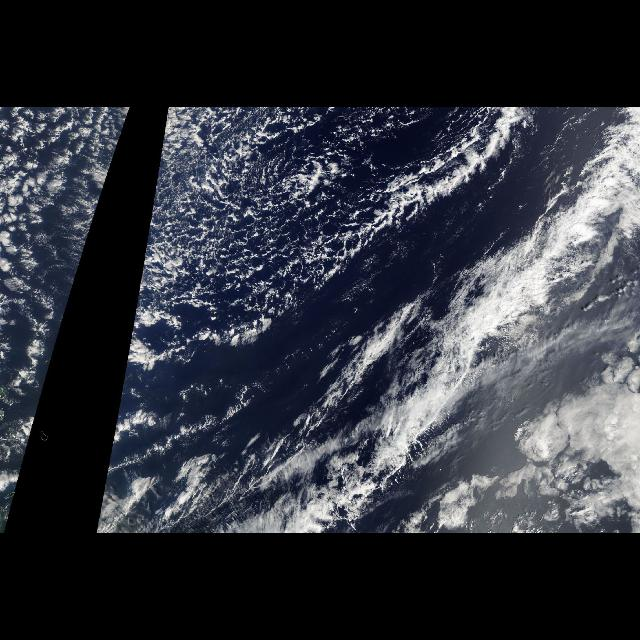Fish: (353, 136, 527, 234)
Gravel: (137, 107, 386, 349), (121, 108, 131, 138)
